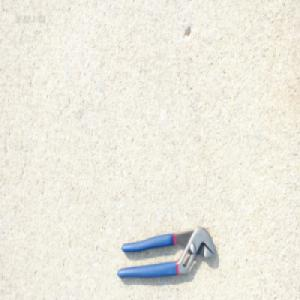Pliers: (116, 224, 216, 279)
